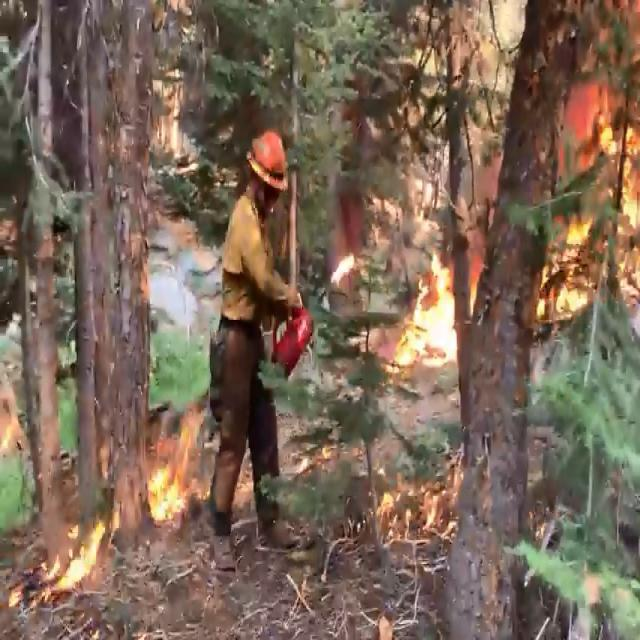Fire: (376, 98, 640, 370), (3, 408, 198, 630), (373, 457, 472, 555)
